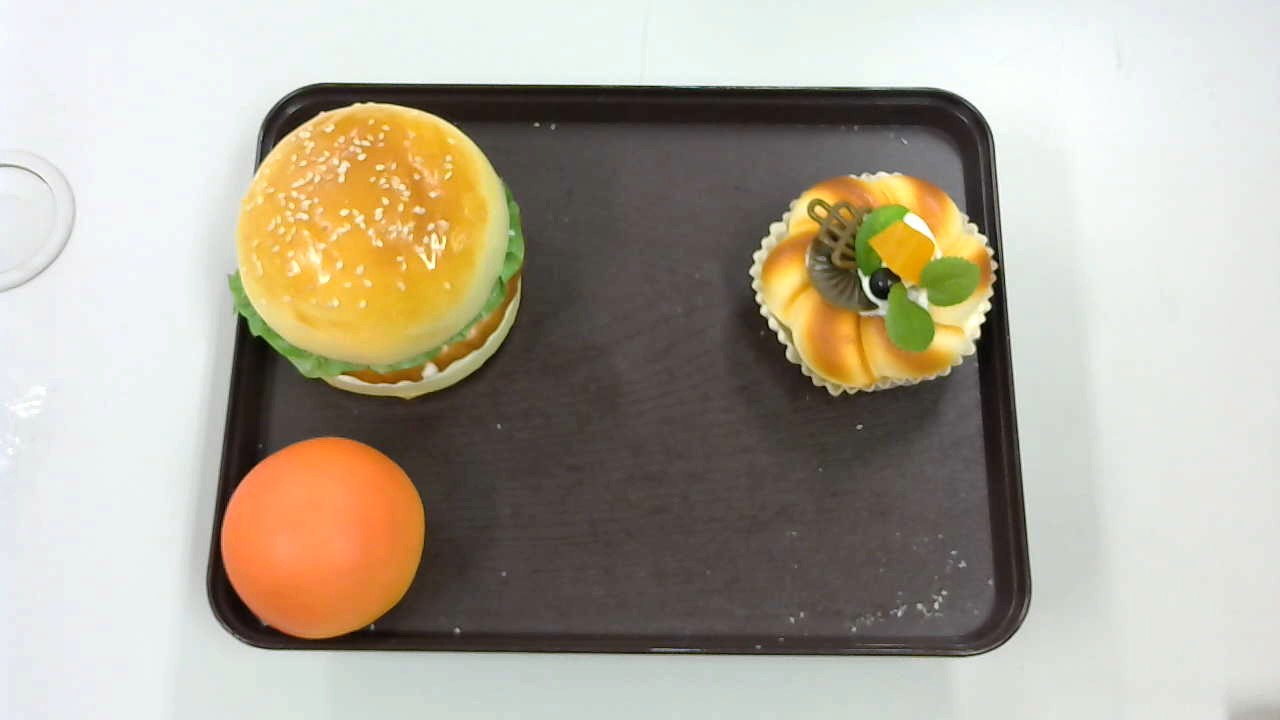bun: (220, 436, 426, 641)
fruit tart: (749, 172, 999, 395)
hamburger: (226, 102, 525, 402)
